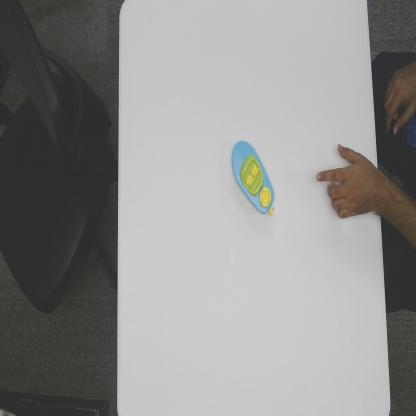Boat: (231, 139, 277, 221)
Hand: (315, 142, 379, 220)
